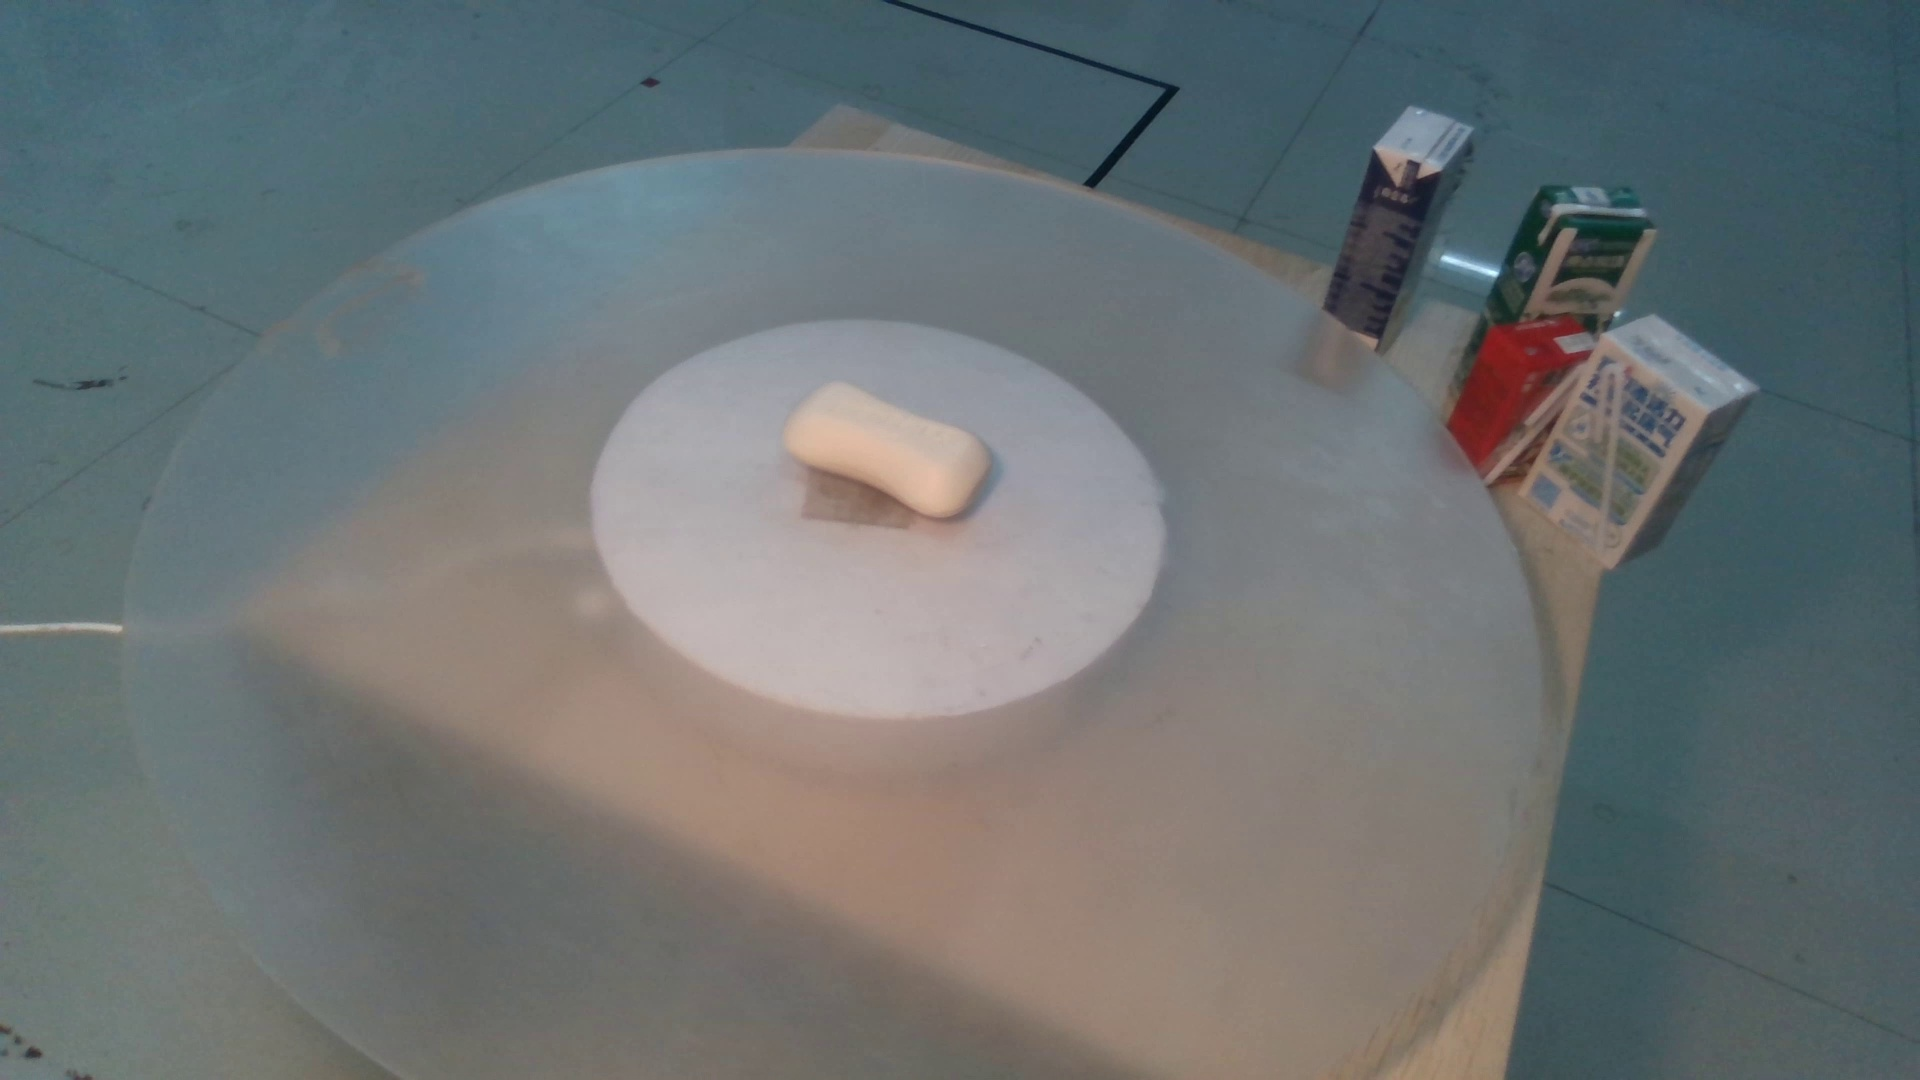CA003_1: (778, 368, 1047, 517)
